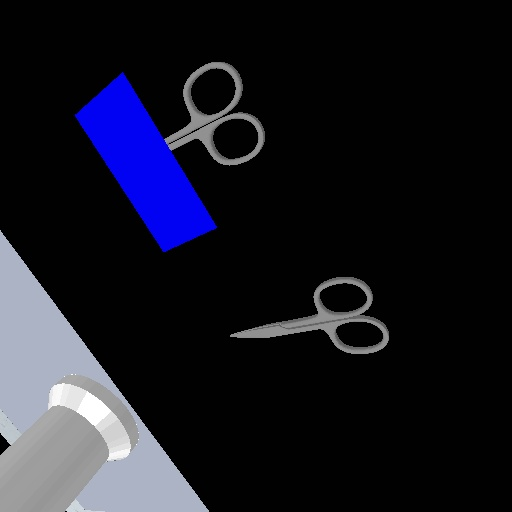tijera: (226, 273, 396, 359), (162, 59, 270, 168)
